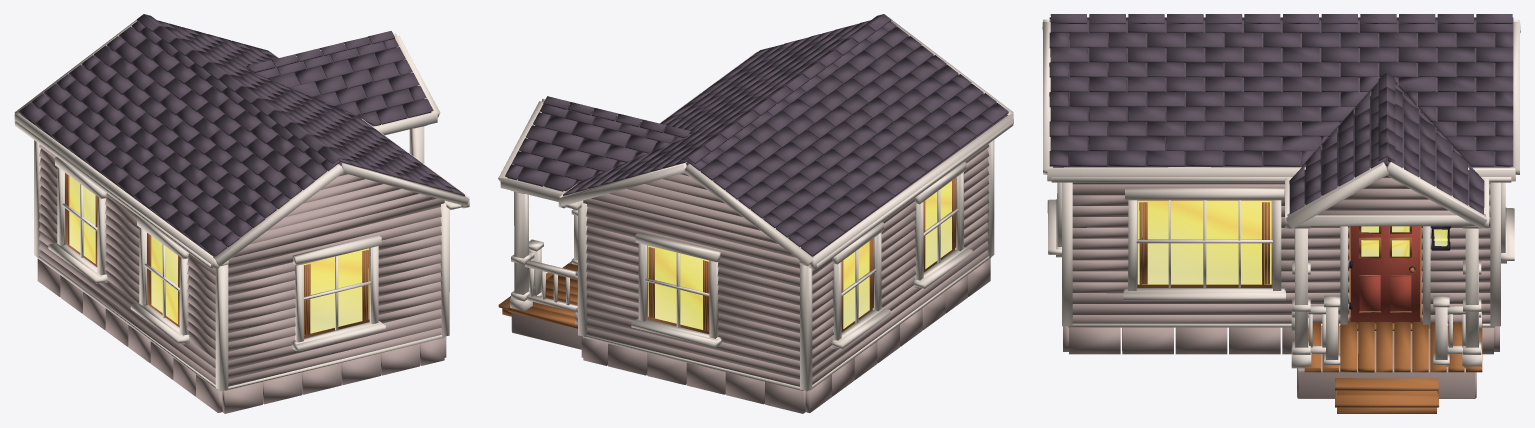
The picture shows the model from 3 angles, left to right: view 1: azimuth 30°, elevation 25°; view 2: azimuth 150°, elevation 25°; view 3: azimuth 270°, elevation 25°; orthographic projection. The views are drawn at different scales.
Bounding box in the file's own units: 7.13 × 4.55 × 7.17.
